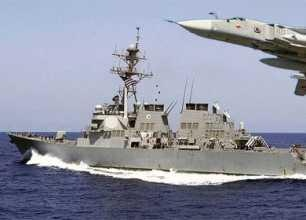airplane: (168, 14, 306, 82)
warship: (5, 26, 304, 172)
